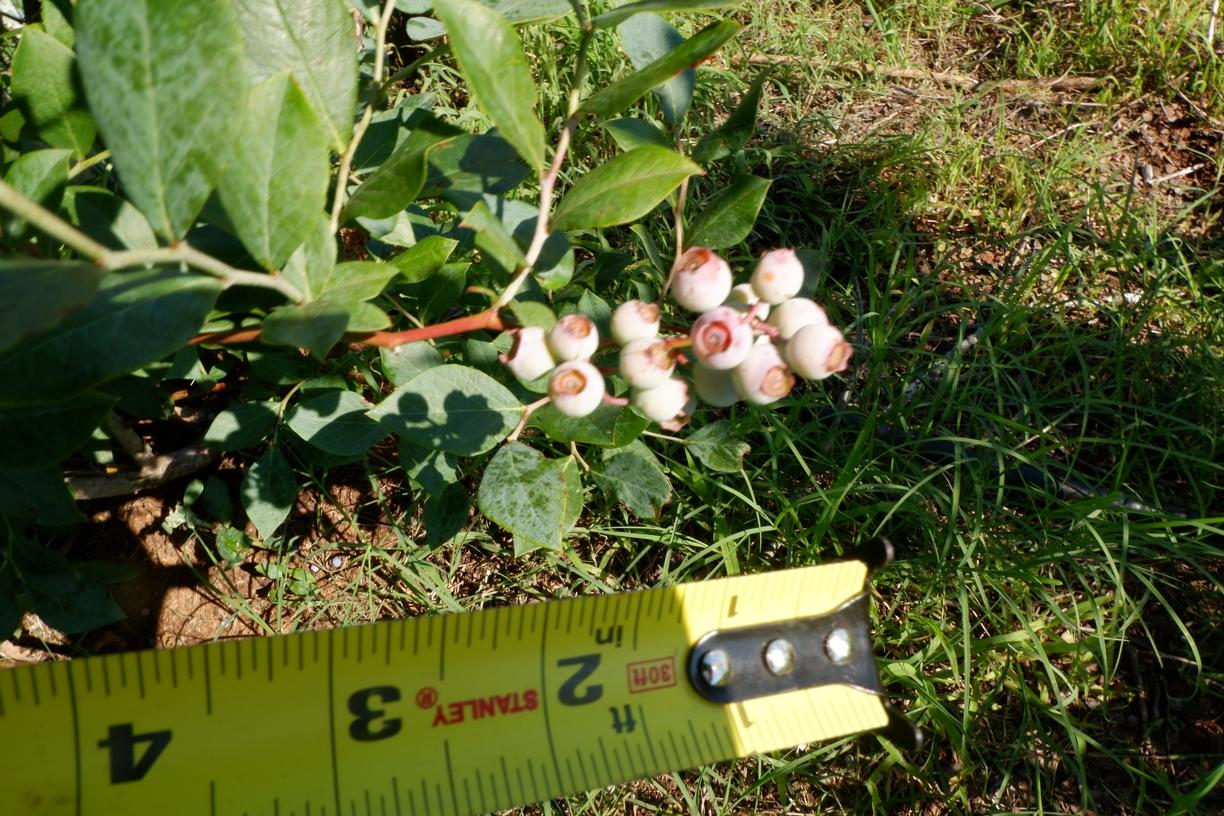Immature: (689, 305, 754, 371), (785, 324, 855, 380), (730, 343, 794, 404), (672, 248, 732, 312), (548, 360, 604, 418), (749, 248, 804, 306), (502, 328, 557, 382), (766, 299, 829, 346), (619, 337, 674, 390), (631, 375, 690, 421), (693, 360, 744, 407), (610, 299, 661, 345), (548, 315, 598, 360), (718, 284, 770, 320), (659, 386, 698, 431)
